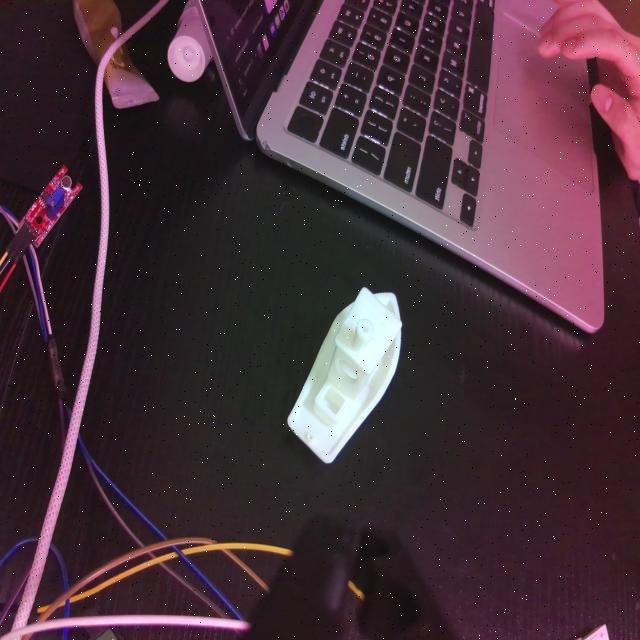ship: (286, 288, 401, 467)
